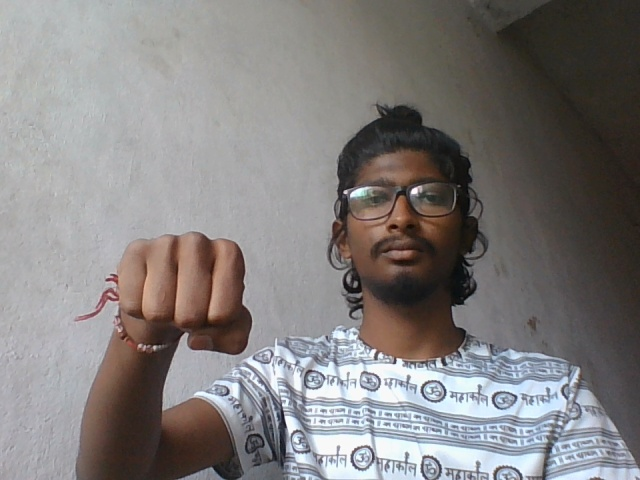Change: (110, 228, 261, 365)
